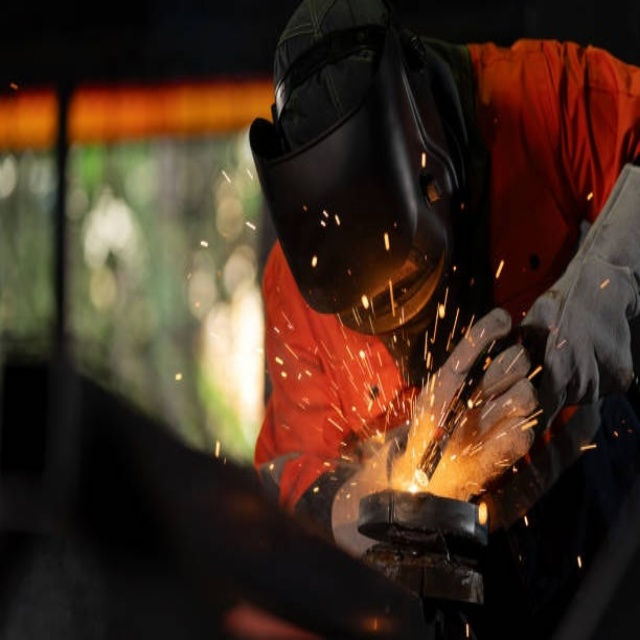Guantes: (521, 168, 632, 408), (406, 306, 541, 494)
